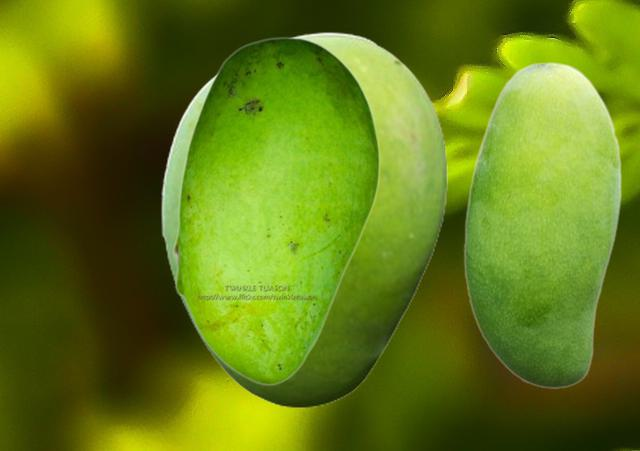green_mango: (160, 31, 446, 407), (172, 36, 380, 385), (463, 61, 621, 388)
